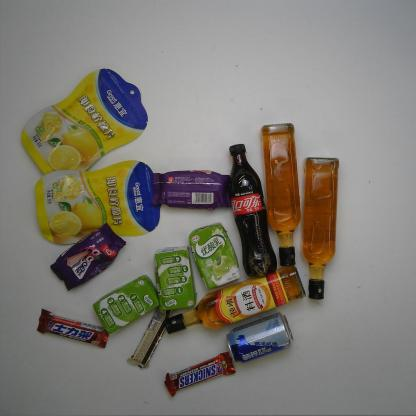Alcohol: (223, 312, 296, 364)
Chocolate: (162, 351, 238, 397), (31, 306, 111, 348), (125, 302, 172, 368)
Dessert: (45, 223, 130, 292), (153, 168, 234, 210)
Dried Fruit: (19, 66, 150, 181), (30, 159, 162, 249)
Drink: (222, 143, 279, 278)
Milk: (91, 276, 164, 338), (187, 220, 244, 289), (153, 245, 198, 313)
Seasoner: (164, 264, 307, 336), (257, 120, 307, 268), (297, 155, 343, 302)
